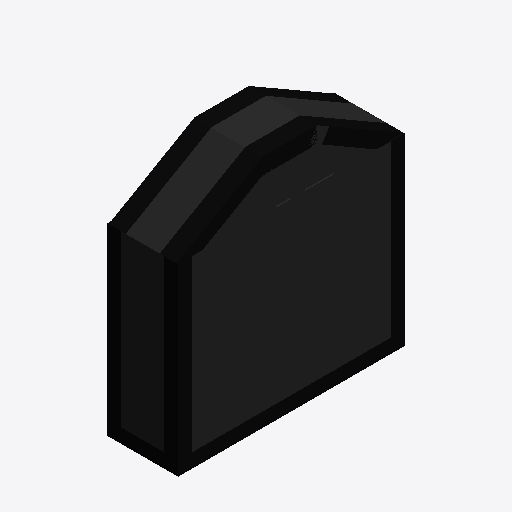
A Minecraft block model of 4 cuboids, rendered isometrically (azimuth 45°, elevation 35.3°) with the resource pack's own textures.
Parts seen in each view (by area): element 1, element 2, element 4, element 3.
Boxes of the visible parts, box(x1,y1,x2,y2) form: element 1: box(107, 93, 404, 476); element 2: box(109, 118, 290, 263); element 4: box(194, 86, 316, 202); element 3: box(250, 86, 401, 197).
Bounding box in the file's own units: 16 × 16.5 × 5.